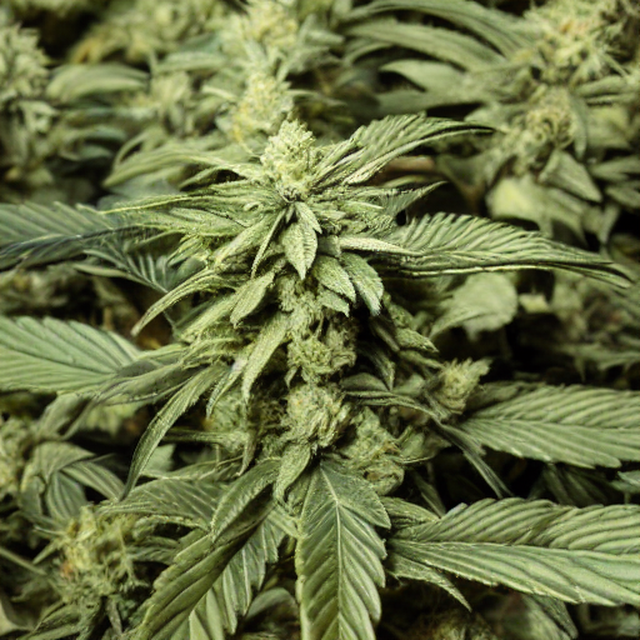Marijuana Joint: (55, 96, 616, 454)
